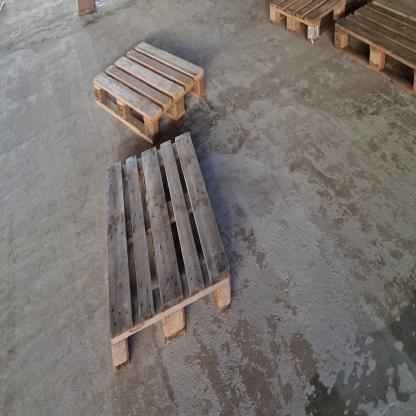BoxFace: (103, 127, 234, 377), (91, 34, 207, 147), (332, 0, 416, 103), (267, 0, 367, 50)
